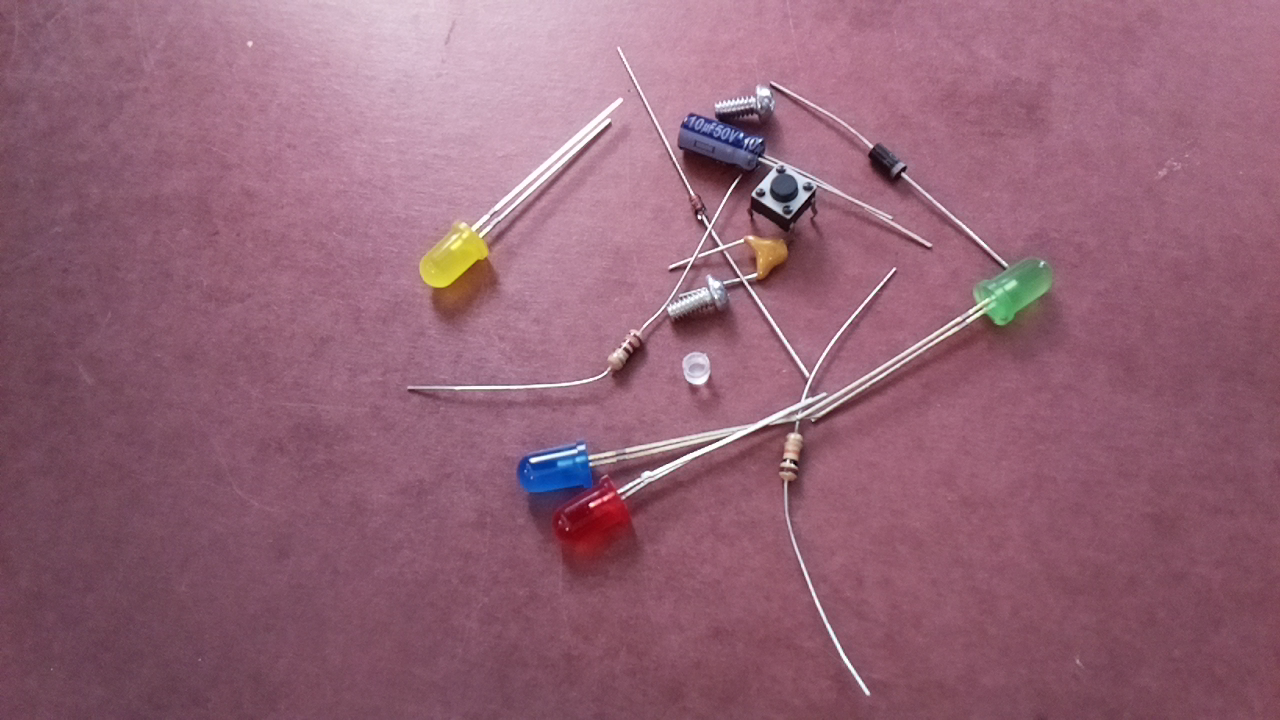button: (748, 162, 820, 233)
capacitor: (675, 111, 766, 185), (739, 232, 793, 287)
diode: (866, 140, 911, 182), (685, 190, 710, 222)
led: (415, 213, 495, 300), (967, 254, 1057, 330), (551, 473, 635, 546), (518, 438, 595, 502)
resistor: (603, 329, 647, 374), (775, 429, 806, 484)
